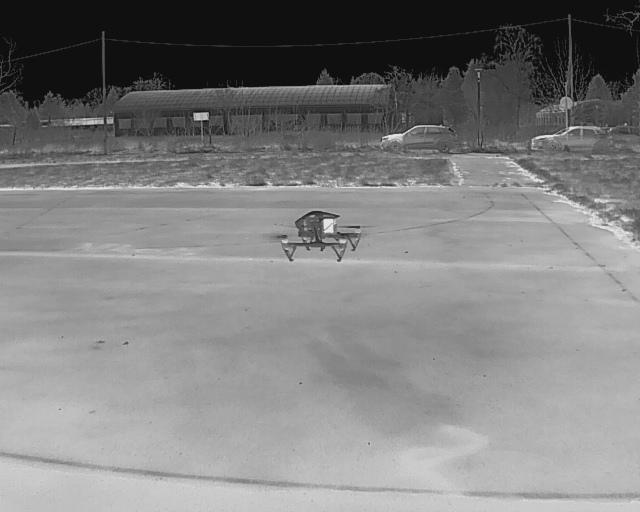drone: (264, 199, 368, 282)
